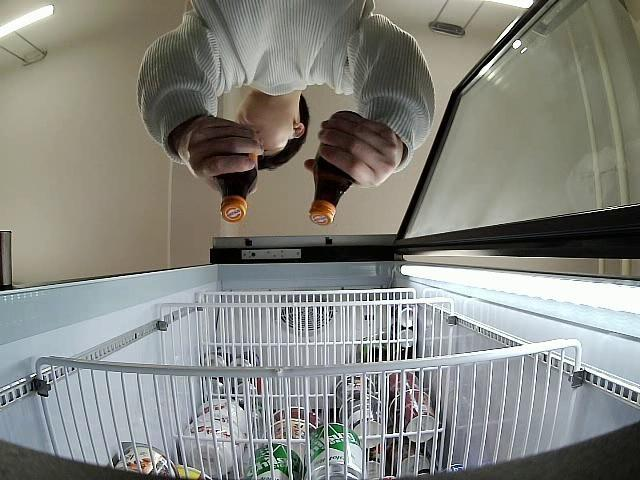17_vita500: (309, 110, 367, 225), (215, 128, 259, 223)
